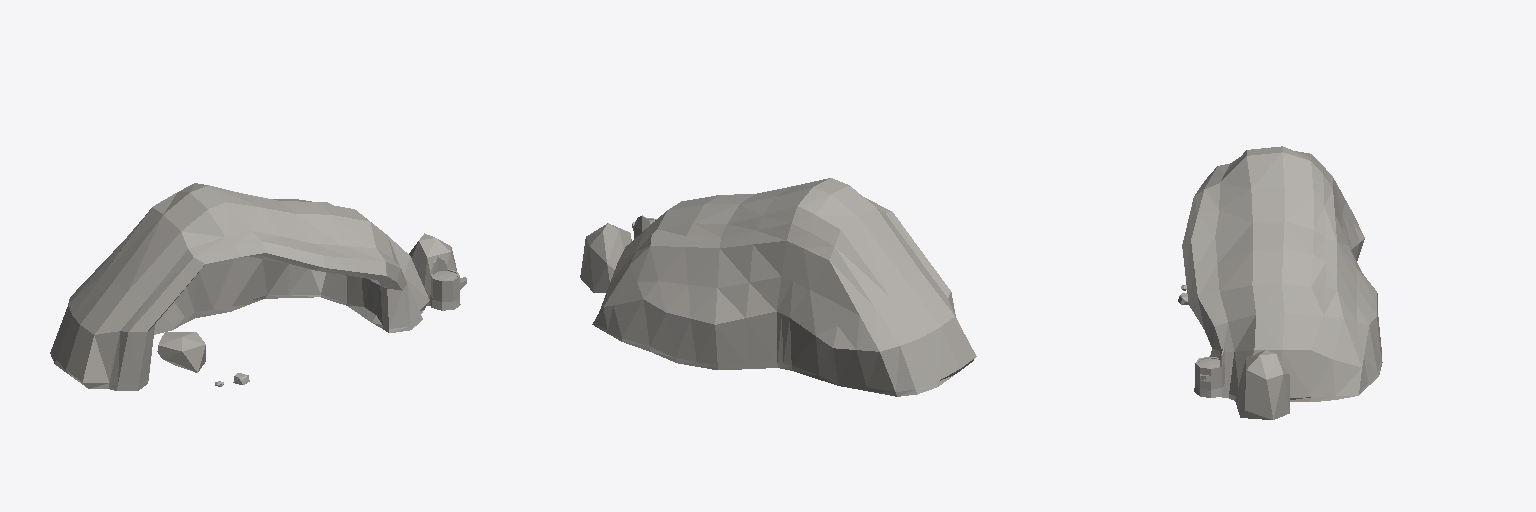
3 views of the same model, side by side, from view 1: azimuth 30°, elevation 25°; view 2: azimuth 150°, elevation 25°; view 3: azimuth 270°, elevation 25° (orthographic).
Visible parts, largest first — view 1: Env_GRP_Models_SnowScene_RockCave, Env_GRP_Models_SnowScene_Rock1, Env_GRP_Stump1_Models_SnowScene, Env_GRP_Models_SnowScene_Rock4; view 2: Env_GRP_Models_SnowScene_RockCave, Env_GRP_Models_SnowScene_Rock4; view 3: Env_GRP_Models_SnowScene_RockCave, Env_GRP_Models_SnowScene_Rock4, Env_GRP_Stump1_Models_SnowScene.
Boxes of the visible parts, x1,y1,x2,y2 form: Env_GRP_Models_SnowScene_RockCave: [50, 183, 429, 390]; Env_GRP_Models_SnowScene_Rock1: [157, 332, 205, 372]; Env_GRP_Stump1_Models_SnowScene: [429, 257, 466, 310]; Env_GRP_Models_SnowScene_Rock4: [409, 233, 456, 305]; Env_GRP_Models_SnowScene_RockCave: [592, 178, 976, 396]; Env_GRP_Models_SnowScene_Rock4: [580, 223, 631, 292]; Env_GRP_Models_SnowScene_RockCave: [1182, 146, 1382, 401]; Env_GRP_Models_SnowScene_Rock4: [1235, 350, 1289, 419]; Env_GRP_Stump1_Models_SnowScene: [1194, 349, 1226, 397].
Bounding box in the file's own units: 24.54 × 9.94 × 11.4.
Materials: 1 (1 with a texture image).